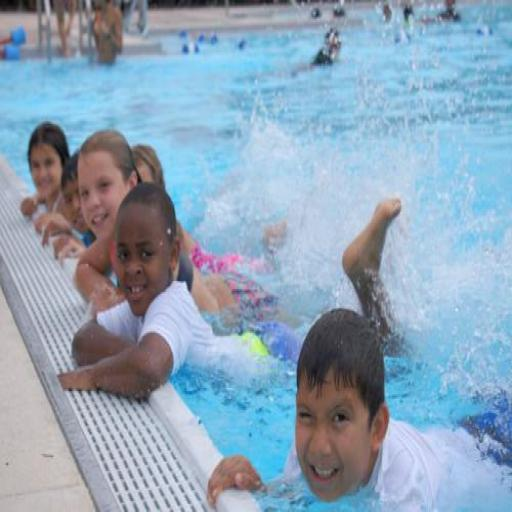swimming: (202, 193, 511, 511), (55, 181, 285, 405)
